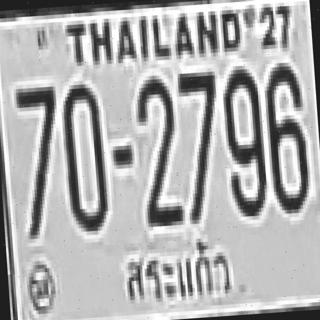N00: (60, 80, 106, 228)
N02: (134, 74, 180, 224)
N06: (262, 60, 309, 212)
N07: (13, 82, 63, 236), (175, 68, 222, 220), (13, 84, 60, 189), (175, 68, 219, 176)
N09: (220, 64, 267, 214)
P55: (112, 225, 238, 309)
